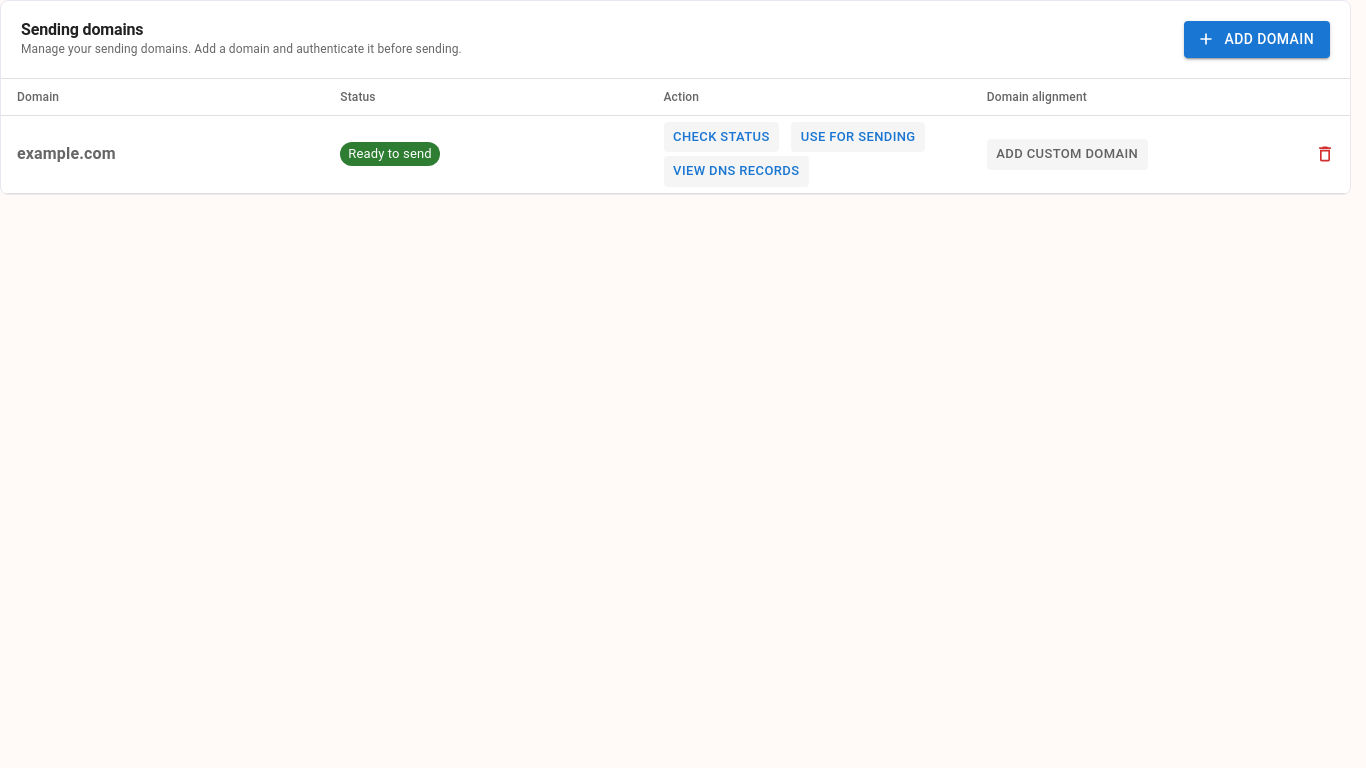
Manual DNS setup › shows a fully authenticated domain
Step 1. Click the button "View DNS records" → [736, 172], box [664, 156, 809, 187]
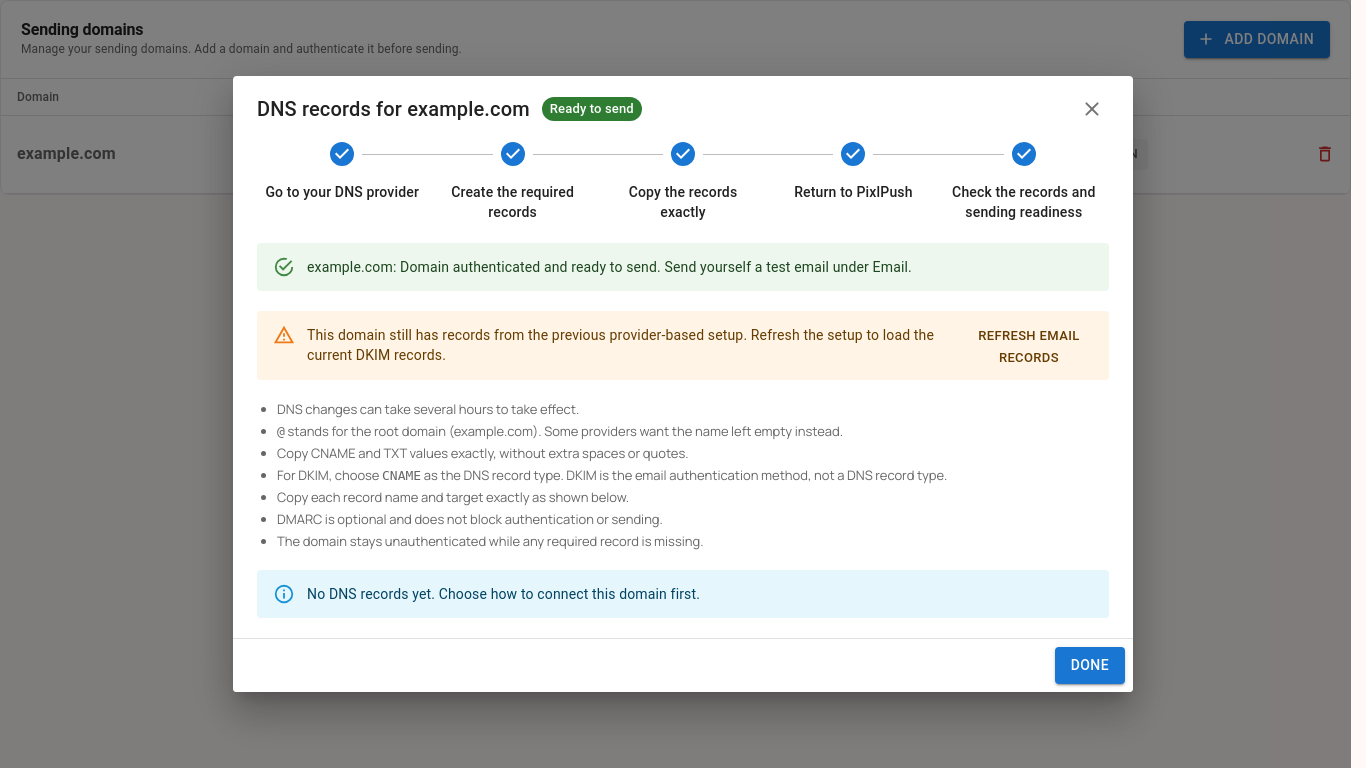
Expected: the text "Ready to send" below "Action" is shown, [348, 146, 432, 161]
Result: the text "example.com: Domain authenticated and ready to send." is shown at [307, 258, 912, 274]
